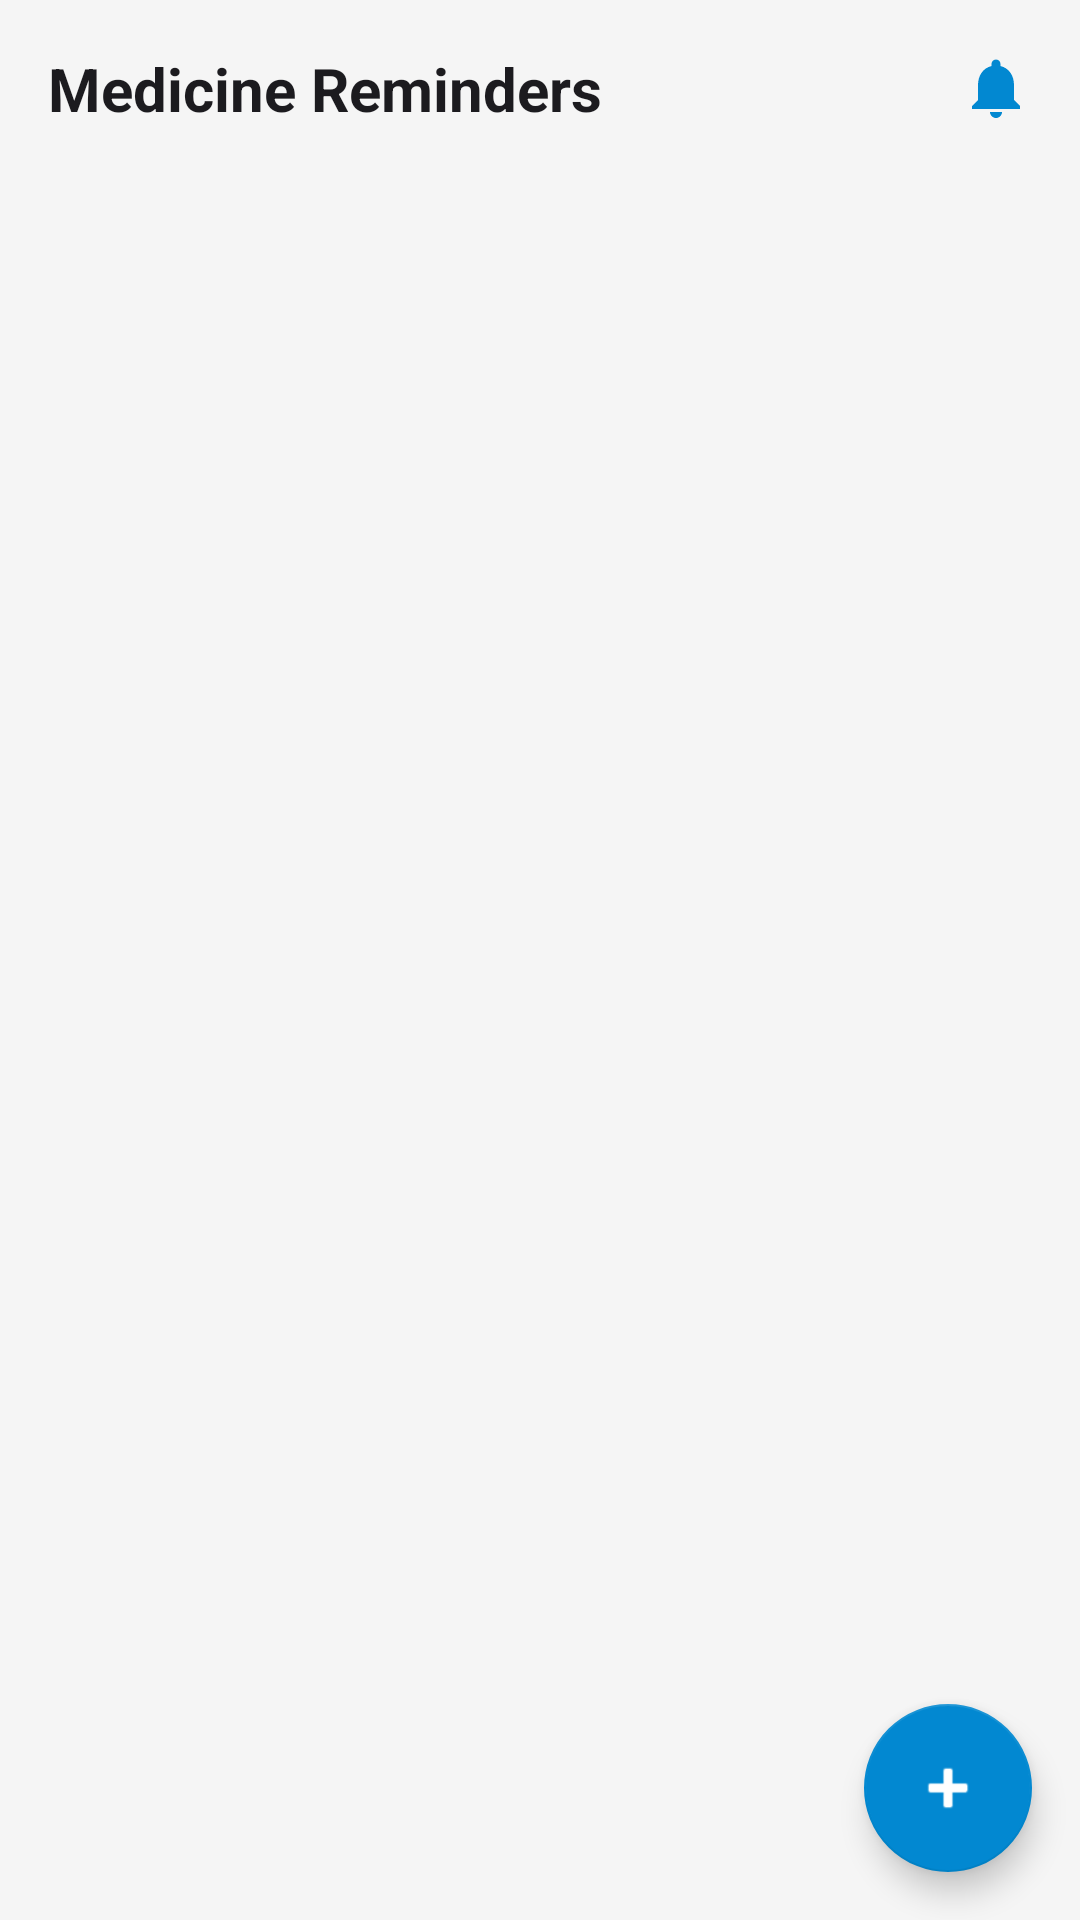

Named icons in this screenshot (1080*1920) and their centers, (x,y):
Add Reminder: (948,1788)
notification: (996,88)
